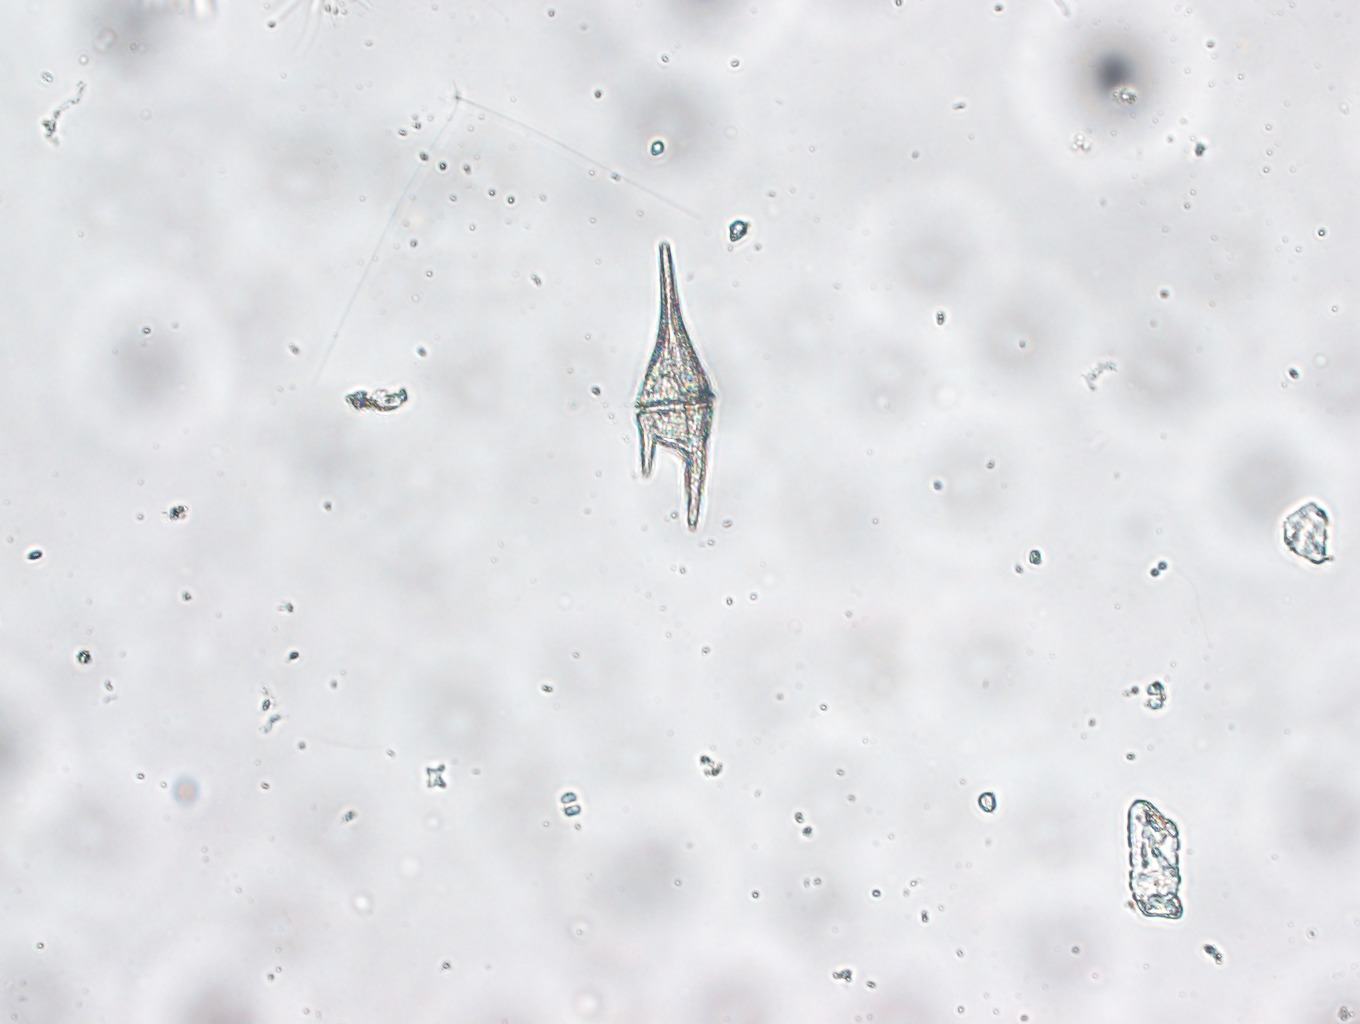ceratium furca: (622, 238, 722, 540)
